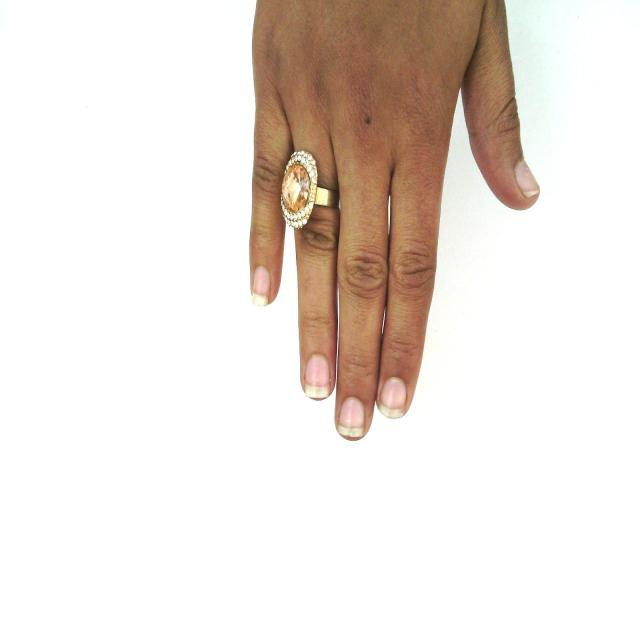Fingernail: (305, 355, 331, 399), (339, 397, 365, 439), (379, 378, 406, 418), (516, 161, 539, 197), (252, 267, 271, 305)
